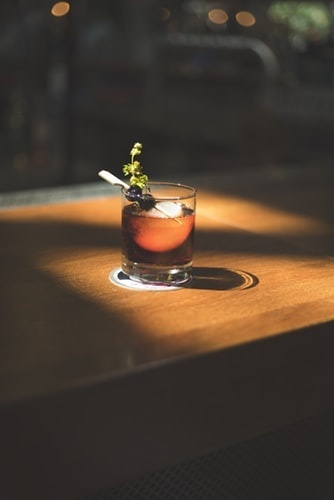whiskey: (121, 177, 197, 288)
